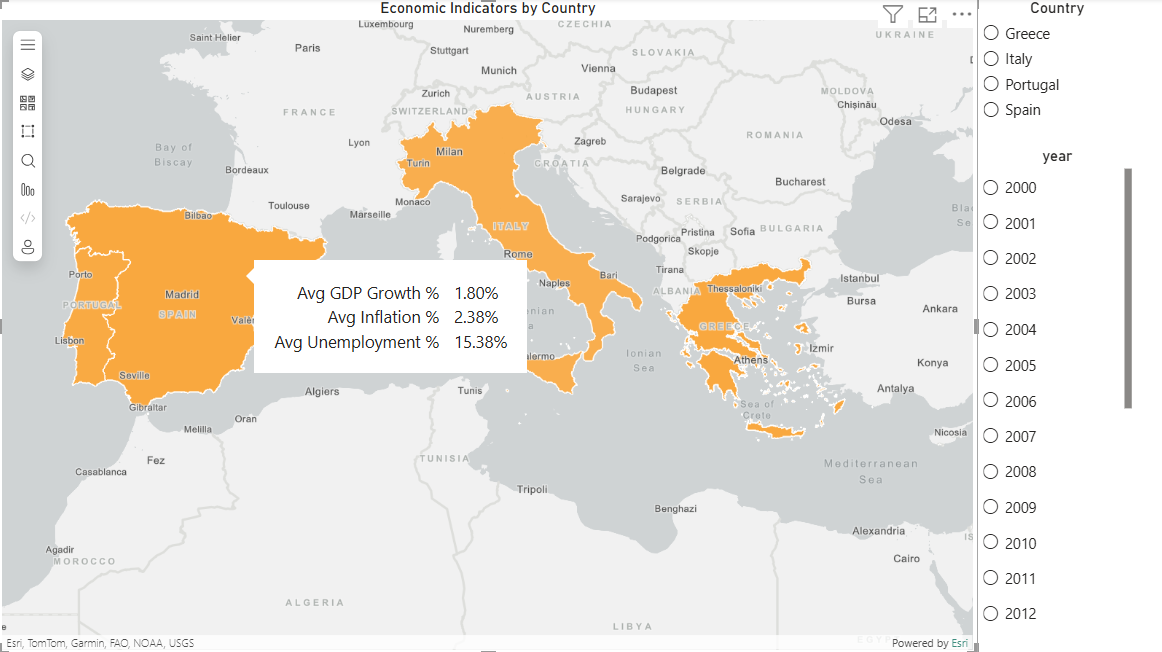

The page's visual inventory and layout, read from the dashboard file:
{"tool":"powerbi","page":{"name":"Map","canvas":[1280,720],"ordinal":1},"visuals":[{"type":"esriVisual","title":"Economic Indicators by Country","fields":{"Location":["southern_europe_economy economic_indicators.country_name"]},"box":[0,0,1075.8,720.4],"z":0},{"type":"listSlicer","title":"Country","fields":{"Values":["southern_europe_economy economic_indicators.country_name"]},"box":[1075.8,0,174.3,144.1],"z":1000},{"type":"listSlicer","fields":{"Values":["southern_europe_economy economic_indicators.year"]},"box":[1075.8,163.3,174.3,543.4],"z":2000}]}

Visuals, with their boxes on the page's 1280x720 design canvas (x1, y1, x2, y2). These are canvas units, not pixel positions in the 1162x652 screenshot, which may show the page scaled, cropped or inside an application window:
"Economic Indicators by Country" esriVisual: x1=0, y1=0, x2=1076, y2=720
"Country" listSlicer: x1=1076, y1=0, x2=1250, y2=144
listSlicer - southern_europe_economy economic_indicators.year: x1=1076, y1=163, x2=1250, y2=707
